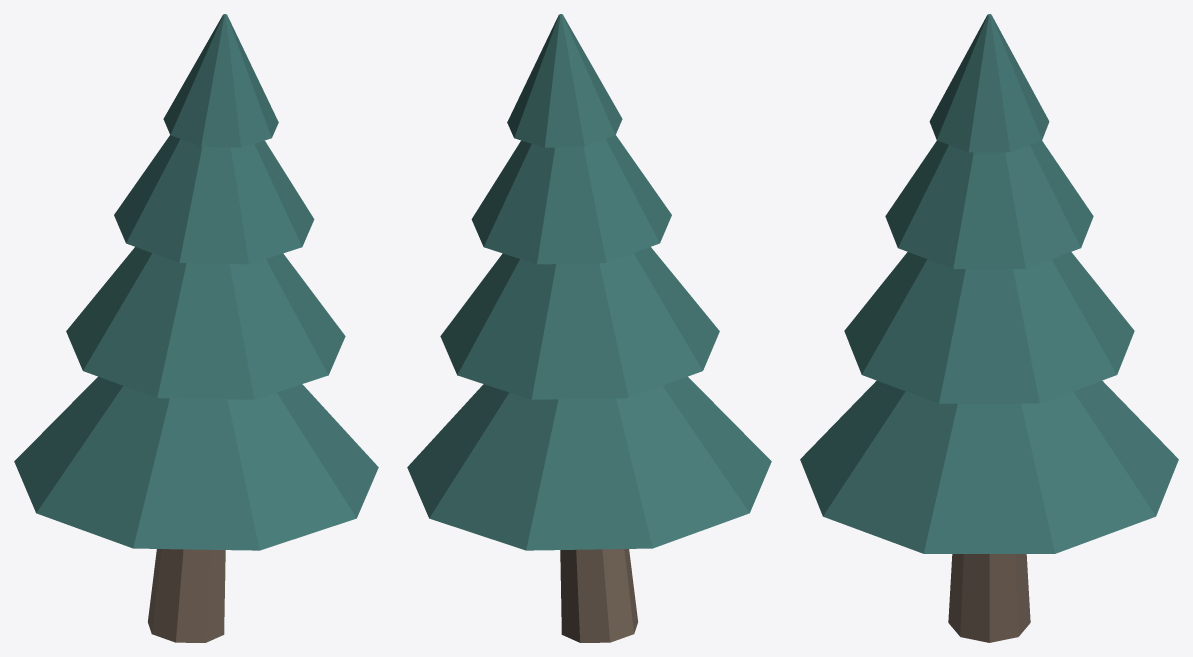
Rendered from arvore_jovem.glb.
3 views of the same model, side by side, from view 1: azimuth 30°, elevation 25°; view 2: azimuth 150°, elevation 25°; view 3: azimuth 270°, elevation 25° (orthographic). The views are drawn at different scales.
Visible parts, largest first — view 1: pedreira_arvore_jovem; view 2: pedreira_arvore_jovem; view 3: pedreira_arvore_jovem.
Part boxes in pixels (left/top/right/bottom): pedreira_arvore_jovem: left=14, top=14, right=378, bottom=642; pedreira_arvore_jovem: left=407, top=14, right=771, bottom=642; pedreira_arvore_jovem: left=800, top=14, right=1178, bottom=642.
Bounding box in the file's own units: 0.861 × 1.61 × 0.8745.
